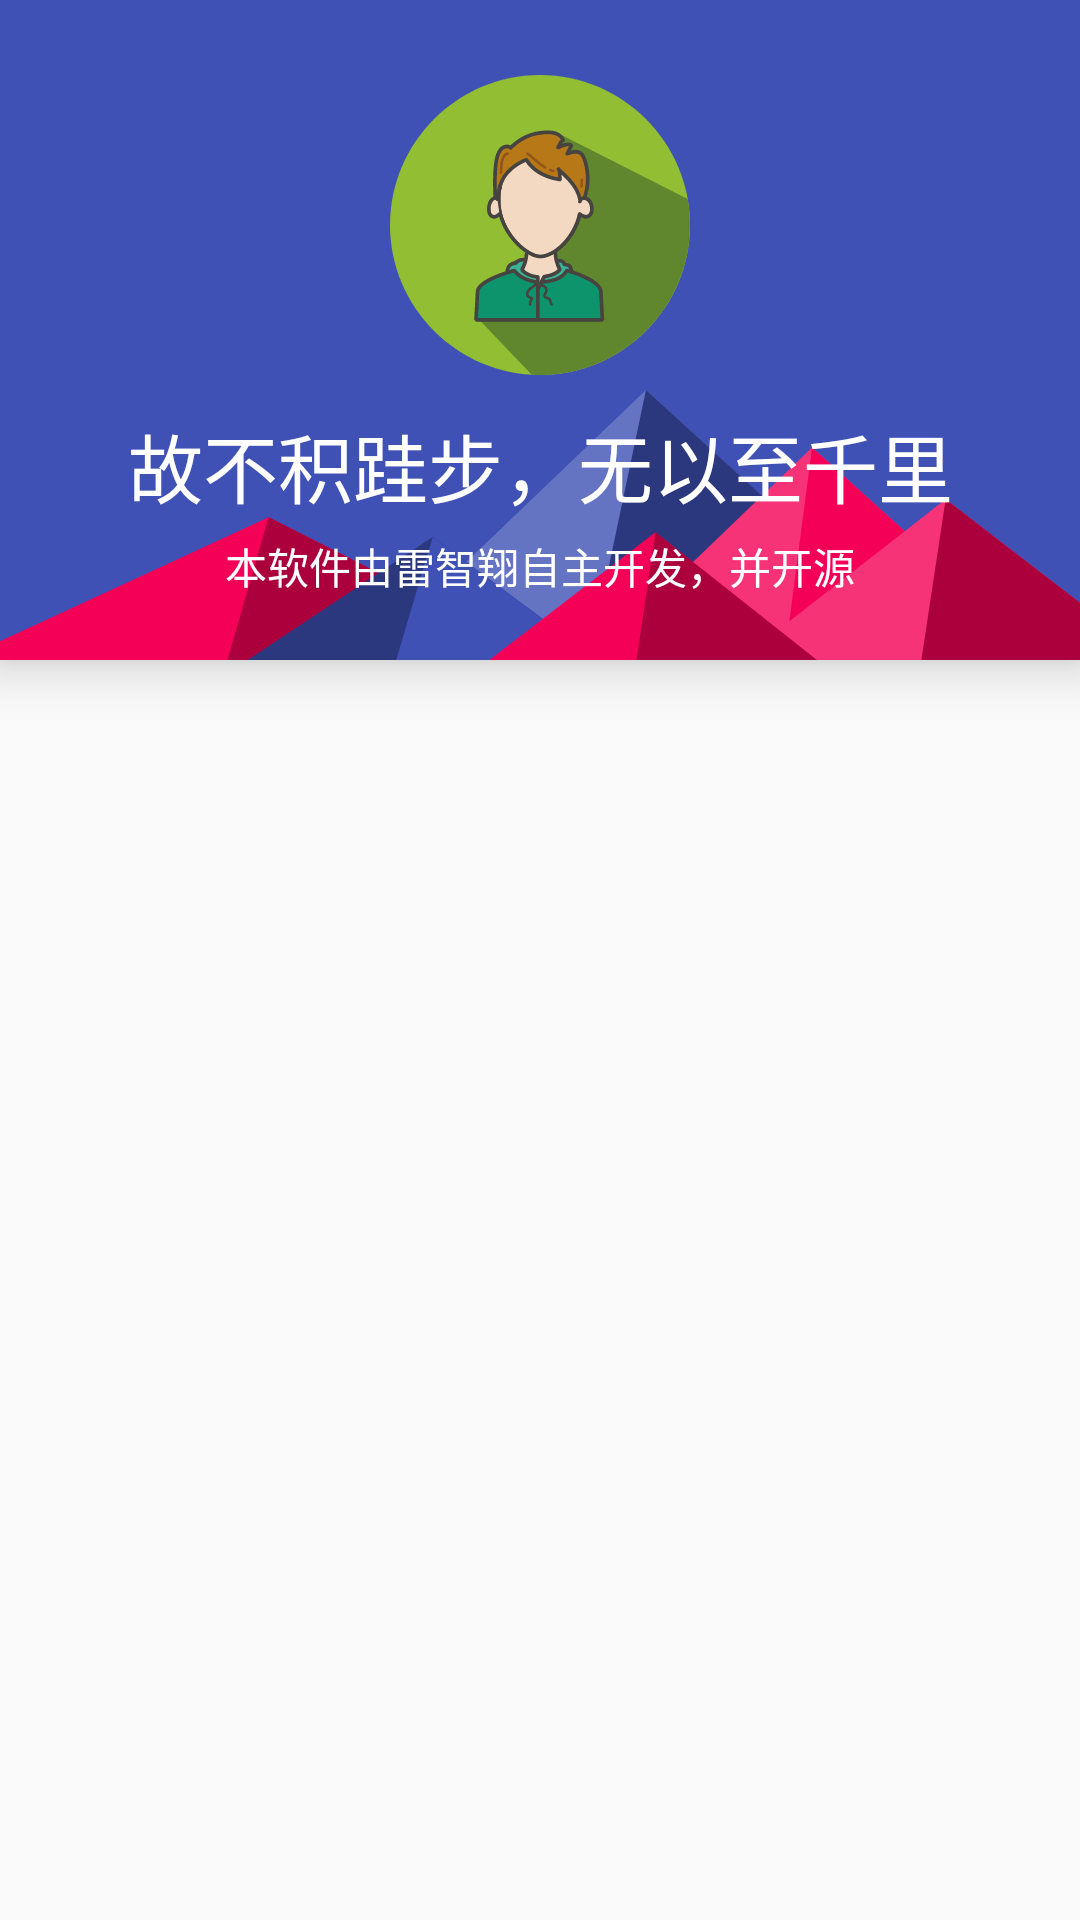

Icon click points for this 1080*1920 phone screenshot, format point (x, y):
user: point (540, 225)
